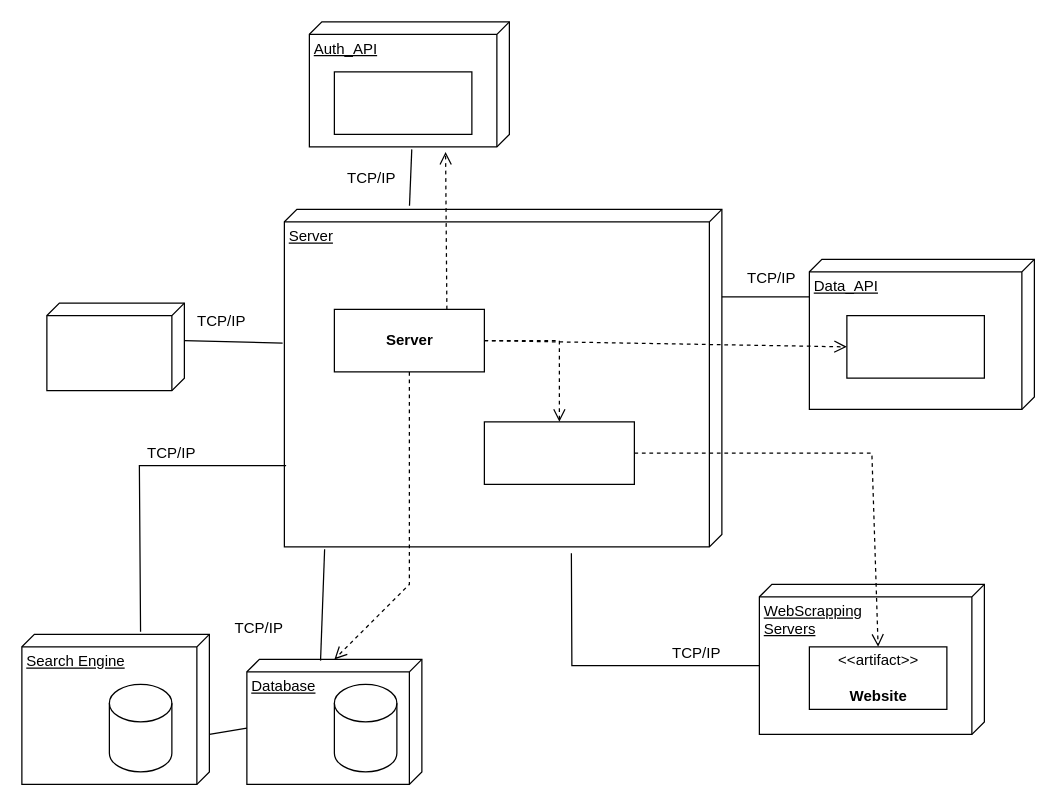
Image size: 1056x806. Some labels were removed from this diagram. The shapes that lost their labels are listed below. From the top down, each one's centre as x and y in pixels, then its label:
pixel 402 102: <<artifact>> Auth_DB
pixel 115 346: Client
pixel 915 346: <<artifact>> DB
pixel 558 452: <<artifact>> WebScrapping
